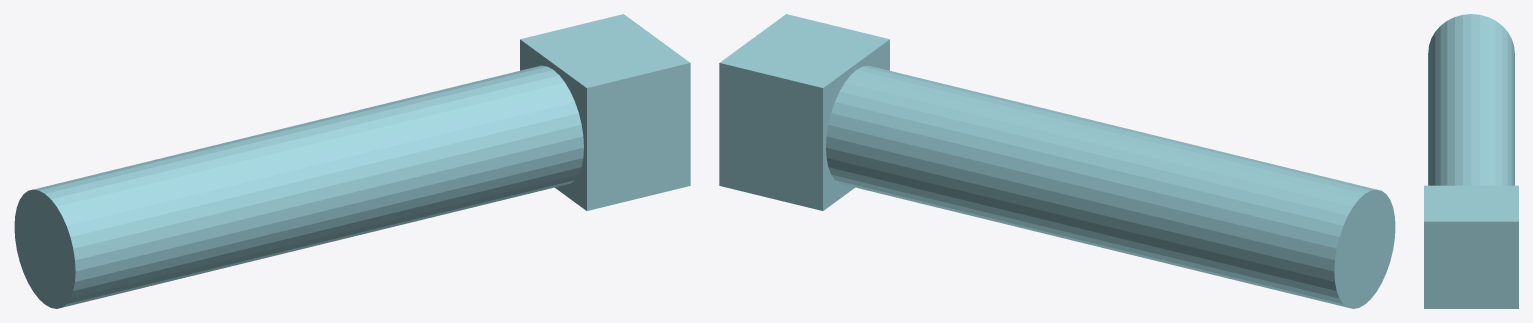
Rendered from cylinder_hammer_v1011.obj.
The picture shows the model from 3 angles, left to right: view 1: azimuth 30°, elevation 25°; view 2: azimuth 150°, elevation 25°; view 3: azimuth 270°, elevation 25°; orthographic projection. The views are drawn at different scales.
Bounding box in the file's own units: 0.2997 × 0.0575 × 0.0566.
1 material, 1 textured.
